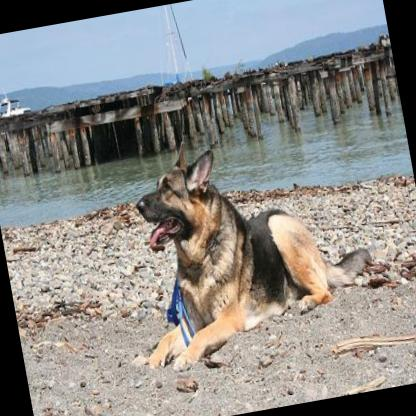German_shepherd: (104, 104, 387, 381)
